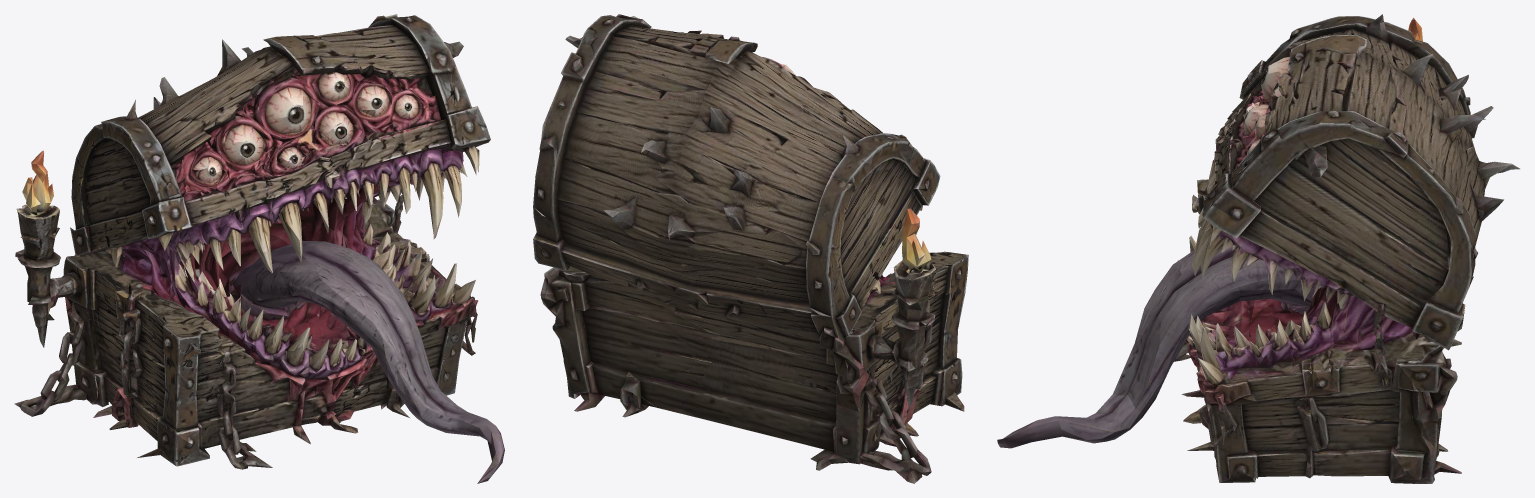
File: mimic.glb
The picture shows the model from 3 angles, left to right: view 1: azimuth 30°, elevation 25°; view 2: azimuth 150°, elevation 25°; view 3: azimuth 270°, elevation 25°; orthographic projection. The views are drawn at different scales.
Visible parts, largest first — view 1: Mesh_0; view 2: Mesh_0; view 3: Mesh_0.
Boxes of the visible parts, box(x1,y1,x2,y2) form: Mesh_0: box(14, 14, 504, 483); Mesh_0: box(533, 14, 968, 483); Mesh_0: box(997, 14, 1519, 483).
Bounding box in the file's own units: 1.85 × 1.5 × 1.86.
1 material, 1 textured.
